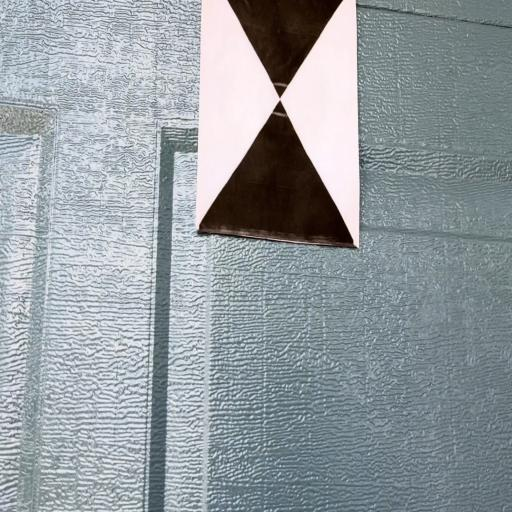target: (197, 0, 361, 248)
